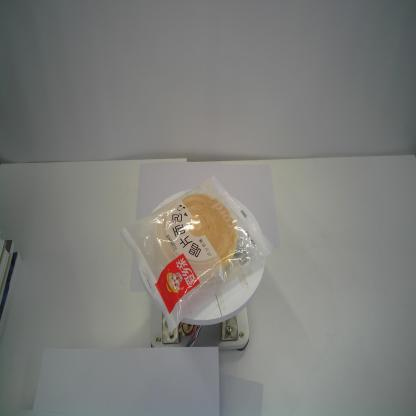Dessert: (119, 173, 276, 338)
